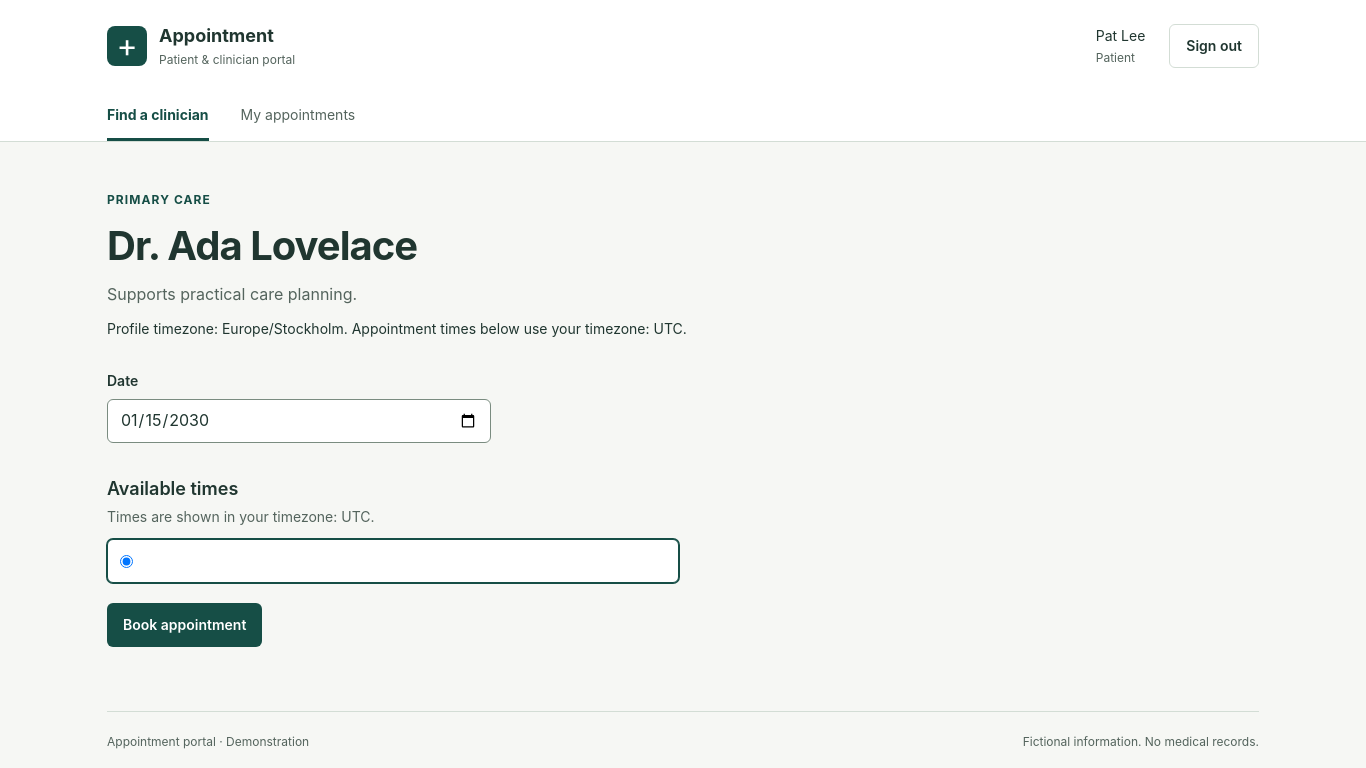
Test case: patient appointment journeys › blocks a blind duplicate retry when network reconciliation also fails
The image size is (1366, 768).
Click the button "Book appointment" at (185, 625), box [107,603,262,647]
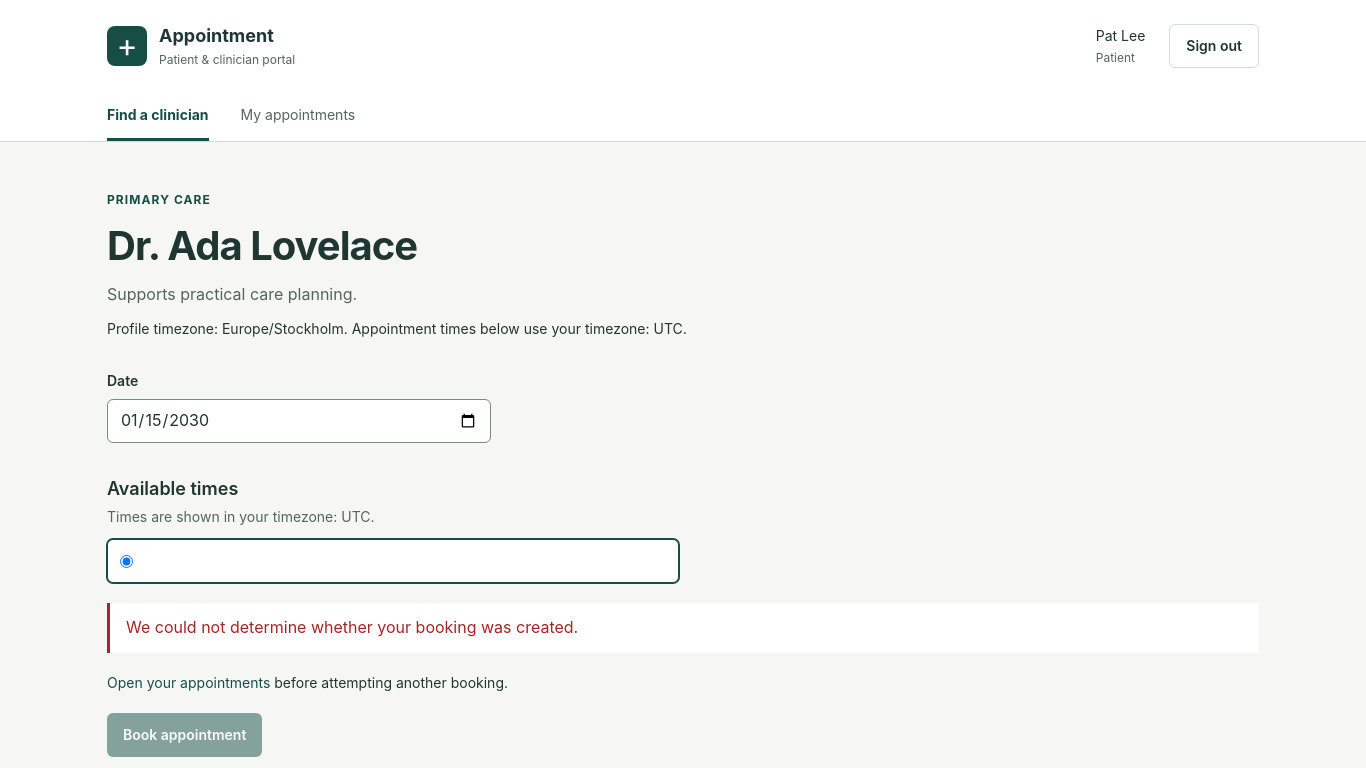
Now the text "We could not determine whether your booking was created." is shown, box [107,603,1259,653]
Now the button "Book appointment" is disabled, box [107,713,262,757]
Now the link "Open your appointments" is shown, box [107,674,270,691]
